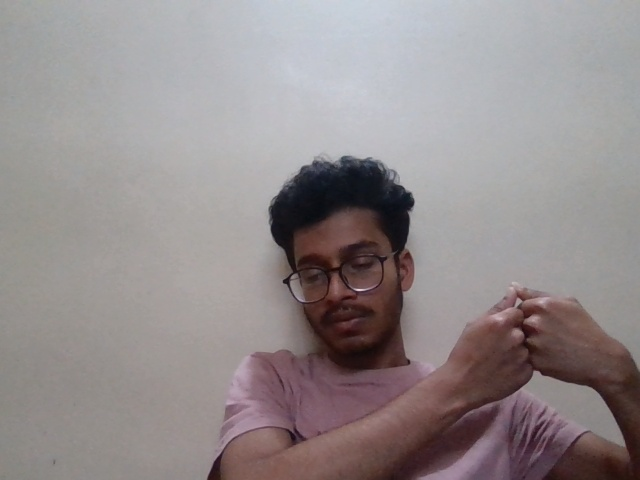sorry: (445, 274, 636, 414)
